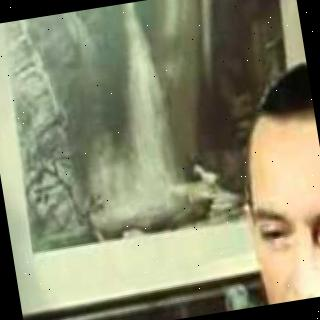smoke: (304, 262, 320, 298)
